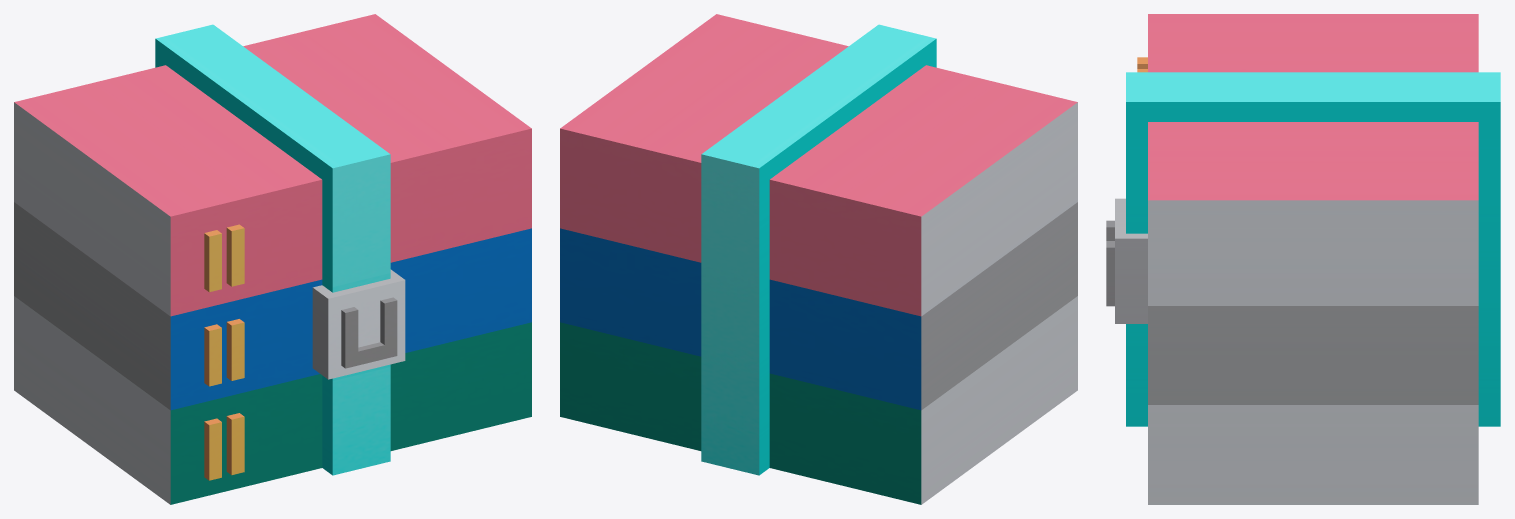
File: SM_ZIP.fbx
The picture shows the model from 3 angles, left to right: view 1: azimuth 30°, elevation 25°; view 2: azimuth 150°, elevation 25°; view 3: azimuth 270°, elevation 25°; orthographic projection. The views are drawn at different scales.
Visible parts, largest first — view 1: SM_ZIP; view 2: SM_ZIP; view 3: SM_ZIP.
Boxes of the visible parts, box(x1,y1,x2,y2) form: SM_ZIP: box(14, 14, 531, 504); SM_ZIP: box(560, 14, 1077, 504); SM_ZIP: box(1106, 14, 1500, 504).
Bounding box in the file's own units: 20 × 16.25 × 17.88.
